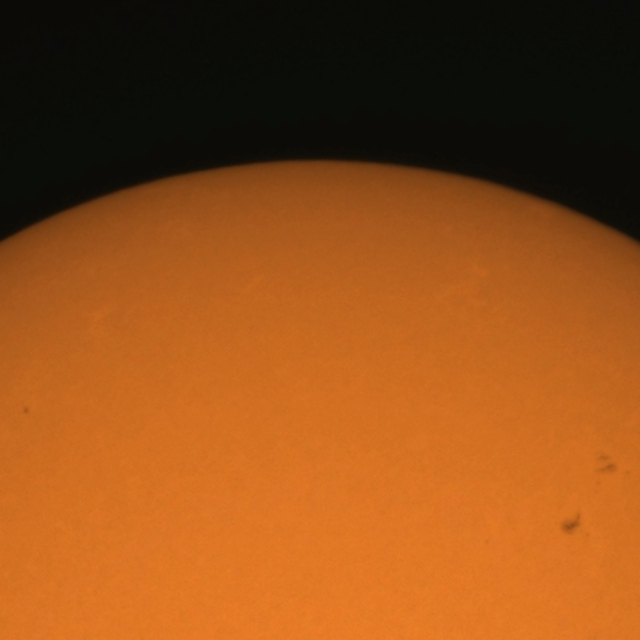sunspot: (592, 451, 634, 492), (560, 512, 586, 537), (22, 406, 30, 416)
